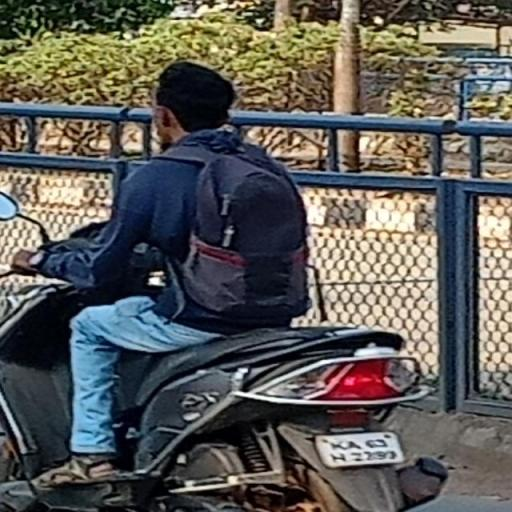bike: (2, 55, 448, 512)
withouthelmet: (154, 62, 228, 133)
